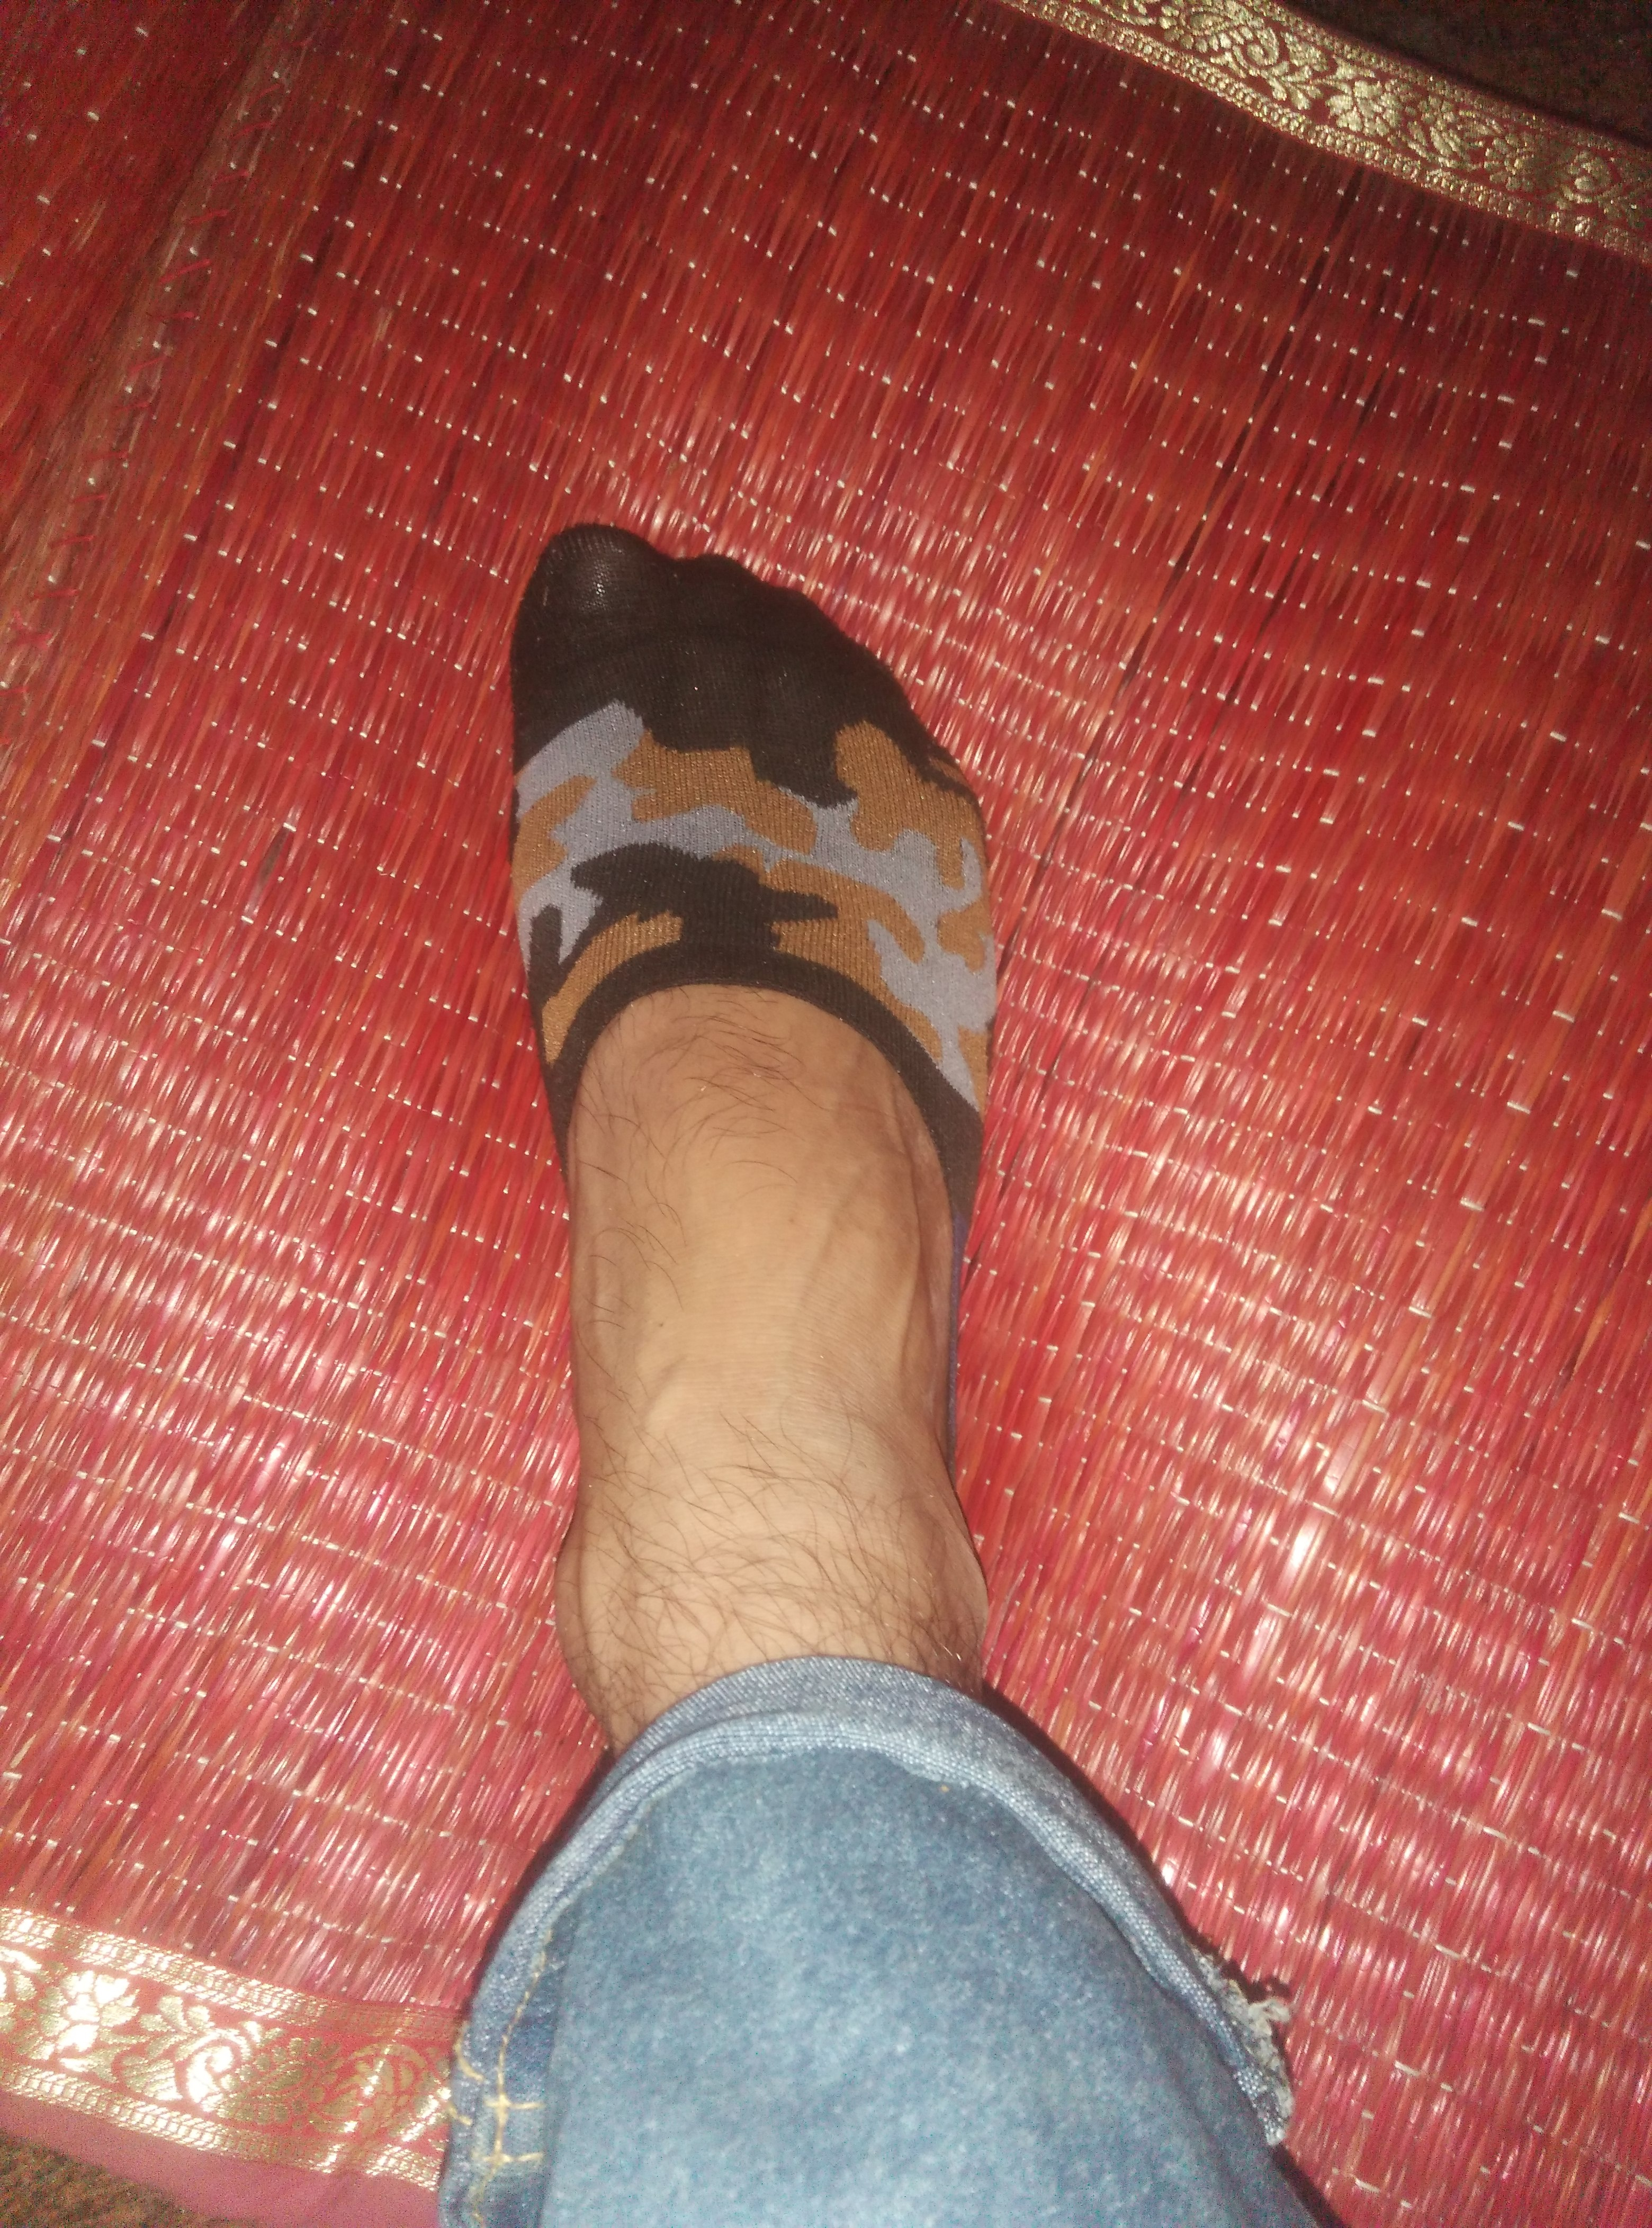feet: (451, 472, 1031, 1756)
